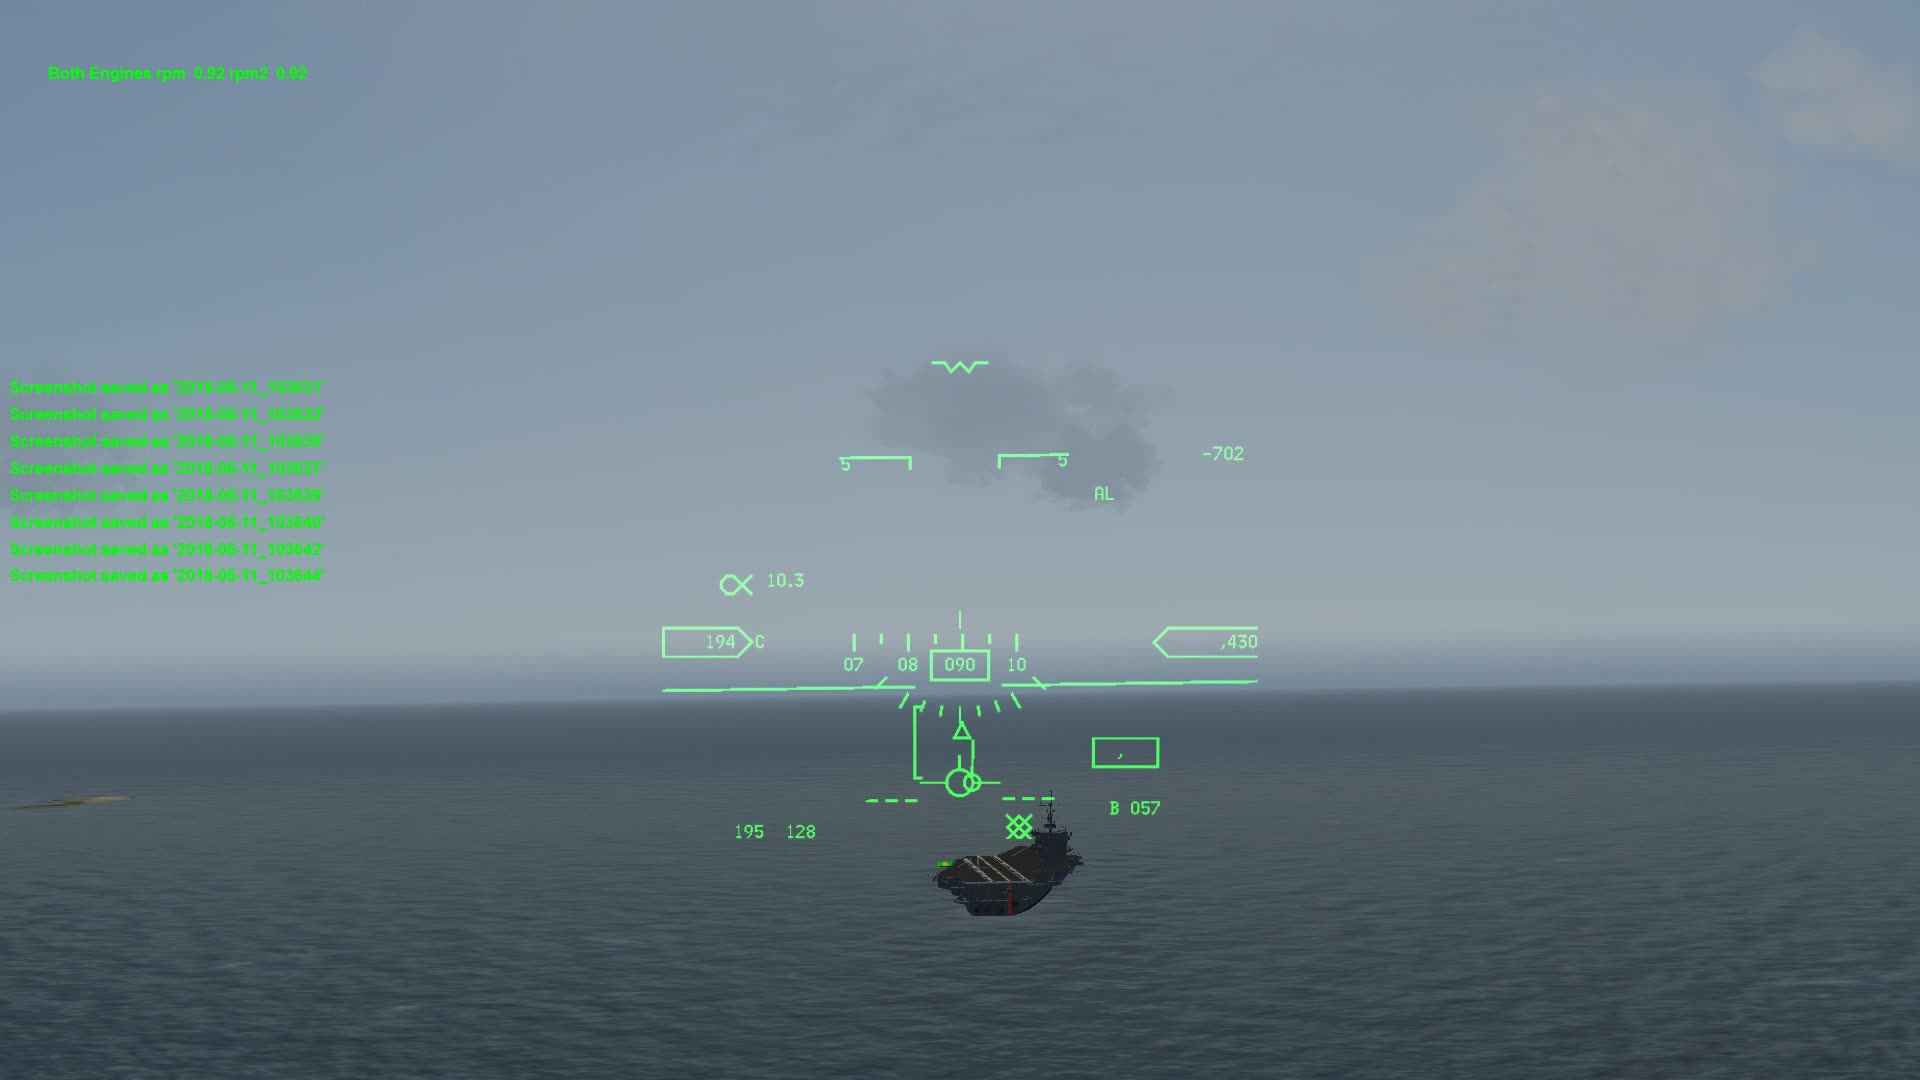speed vector: (922, 748, 997, 800)
